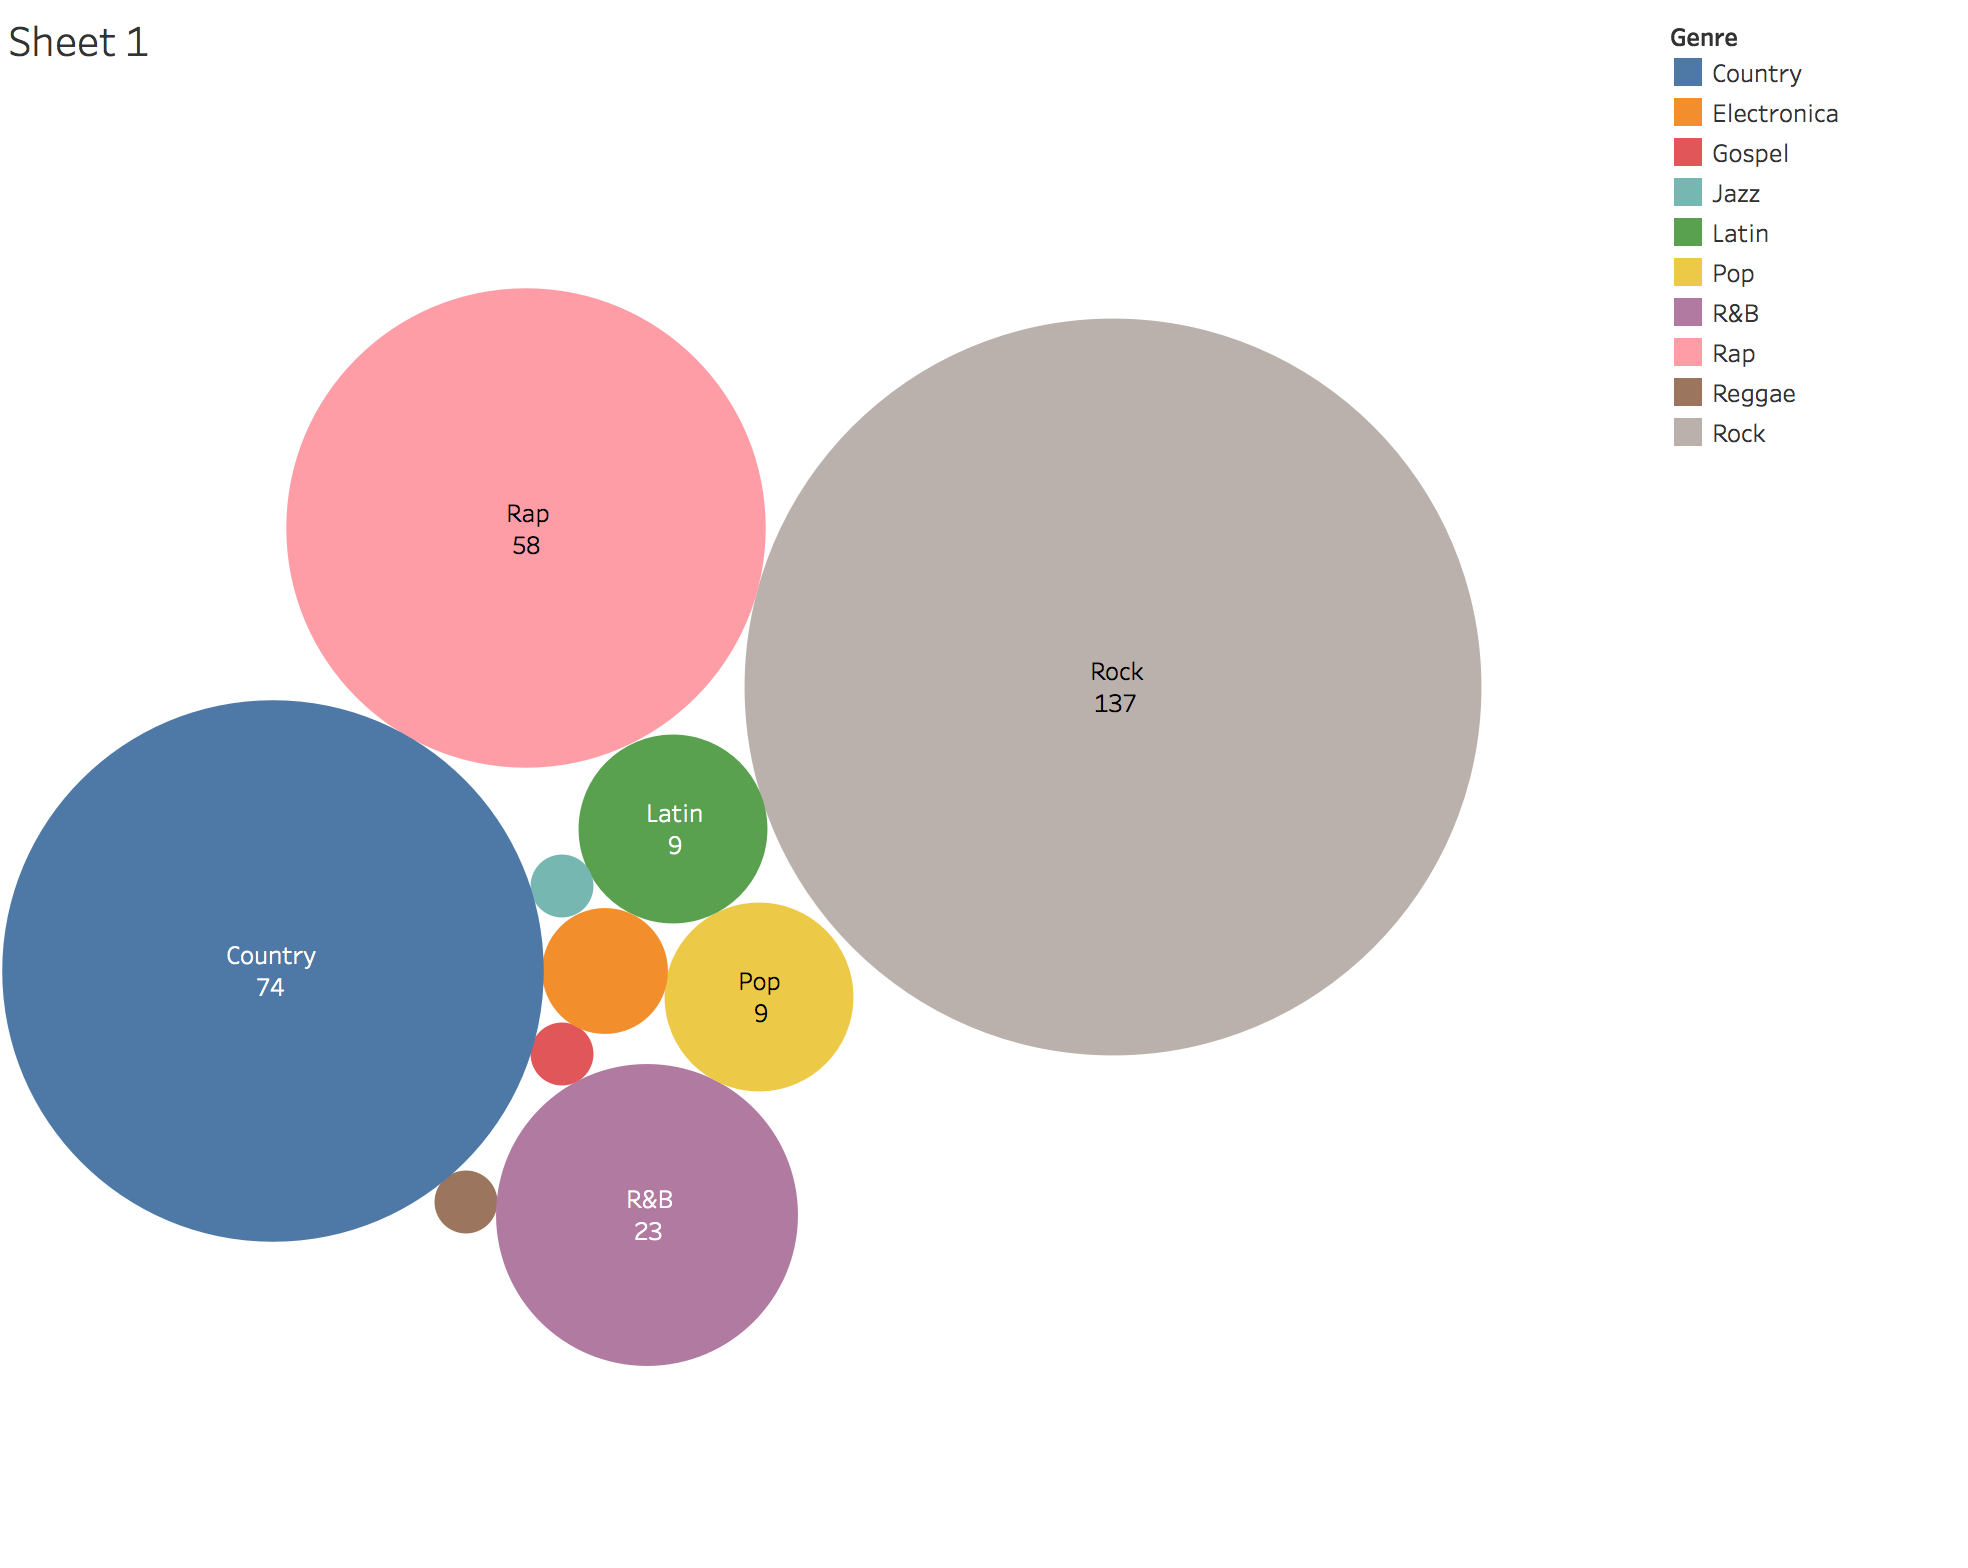

Layout of this report page (visuals, bound fields, positions):
{"tool":"tableau","page":{"name":"Dashboard 2","canvas":[1000,800],"ordinal":1},"visuals":[{"type":"worksheet","title":"Sheet 1","mark":"Pie","box":[0,0,996,800]},{"type":"legend","title":"Sheet 1","param":"[federated.1c1qaf70rrb9h011uch2m0737lh5].[none:genre:nk]","box":[842,16,140,218]}]}

Visuals, with their boxes in screenshot pixels (x1, y1, x2, y2), scaled from the page's 1000x800 canvas onto the 1968x1568 screenshot:
"Sheet 1" worksheet (Pie marks): pyautogui.locateOnScreen(0, 0, 1960, 1567)
"Sheet 1" legend: pyautogui.locateOnScreen(1657, 31, 1933, 459)
